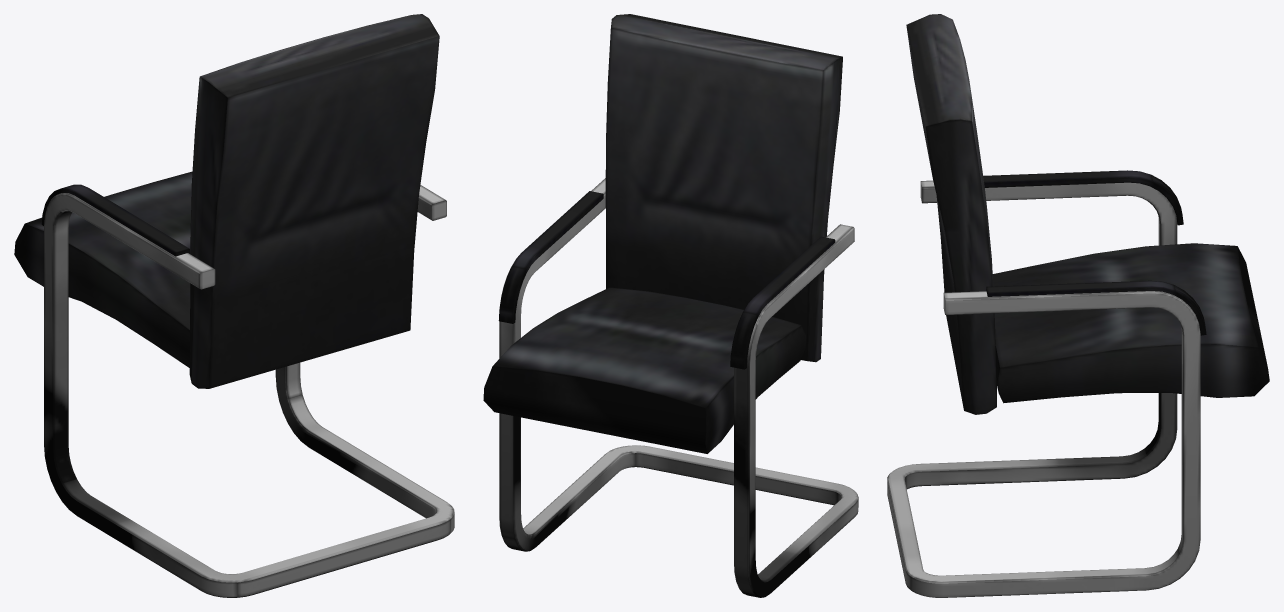
File: yizi001.obj
3 renders of one model, left to right at view 1: azimuth 30°, elevation 25°; view 2: azimuth 150°, elevation 25°; view 3: azimuth 270°, elevation 25°, orthographic. The views are drawn at different scales.
Visible parts, largest first — view 1: DZYJY60; view 2: DZYJY60; view 3: DZYJY60.
Boxes of the visible parts, box(x1,y1,x2,y2) form: DZYJY60: box(14, 14, 454, 597); DZYJY60: box(483, 14, 858, 597); DZYJY60: box(887, 14, 1269, 597).
Size of the model in its own units: 62.12 by 106 by 78.09.
